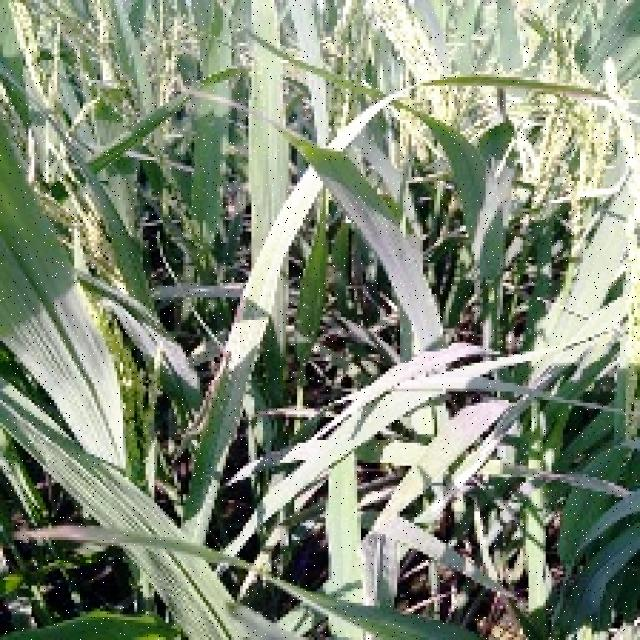health: (272, 372, 512, 518)
